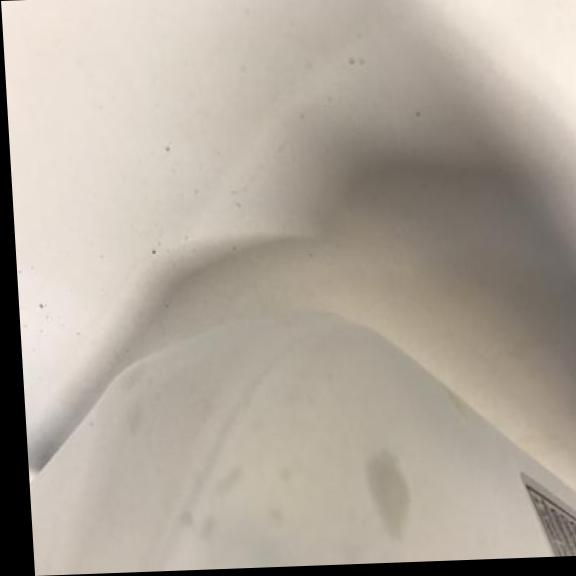Plastik: (18, 291, 576, 576)
